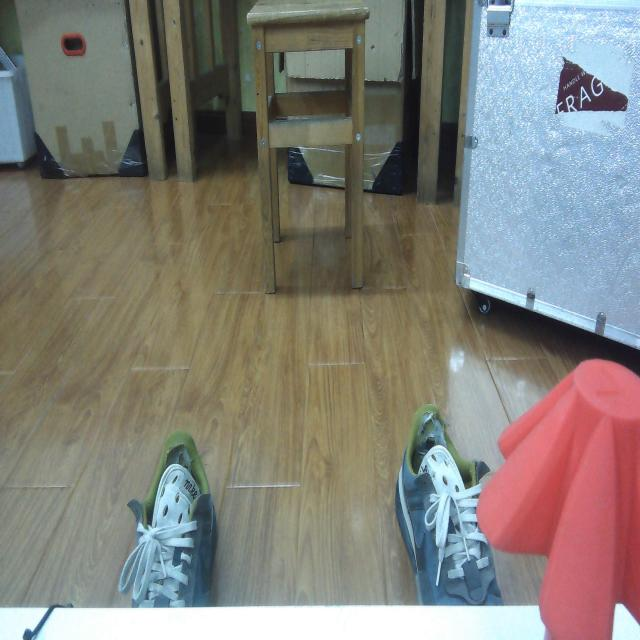zred-Stake-Head: (477, 358, 640, 637)
